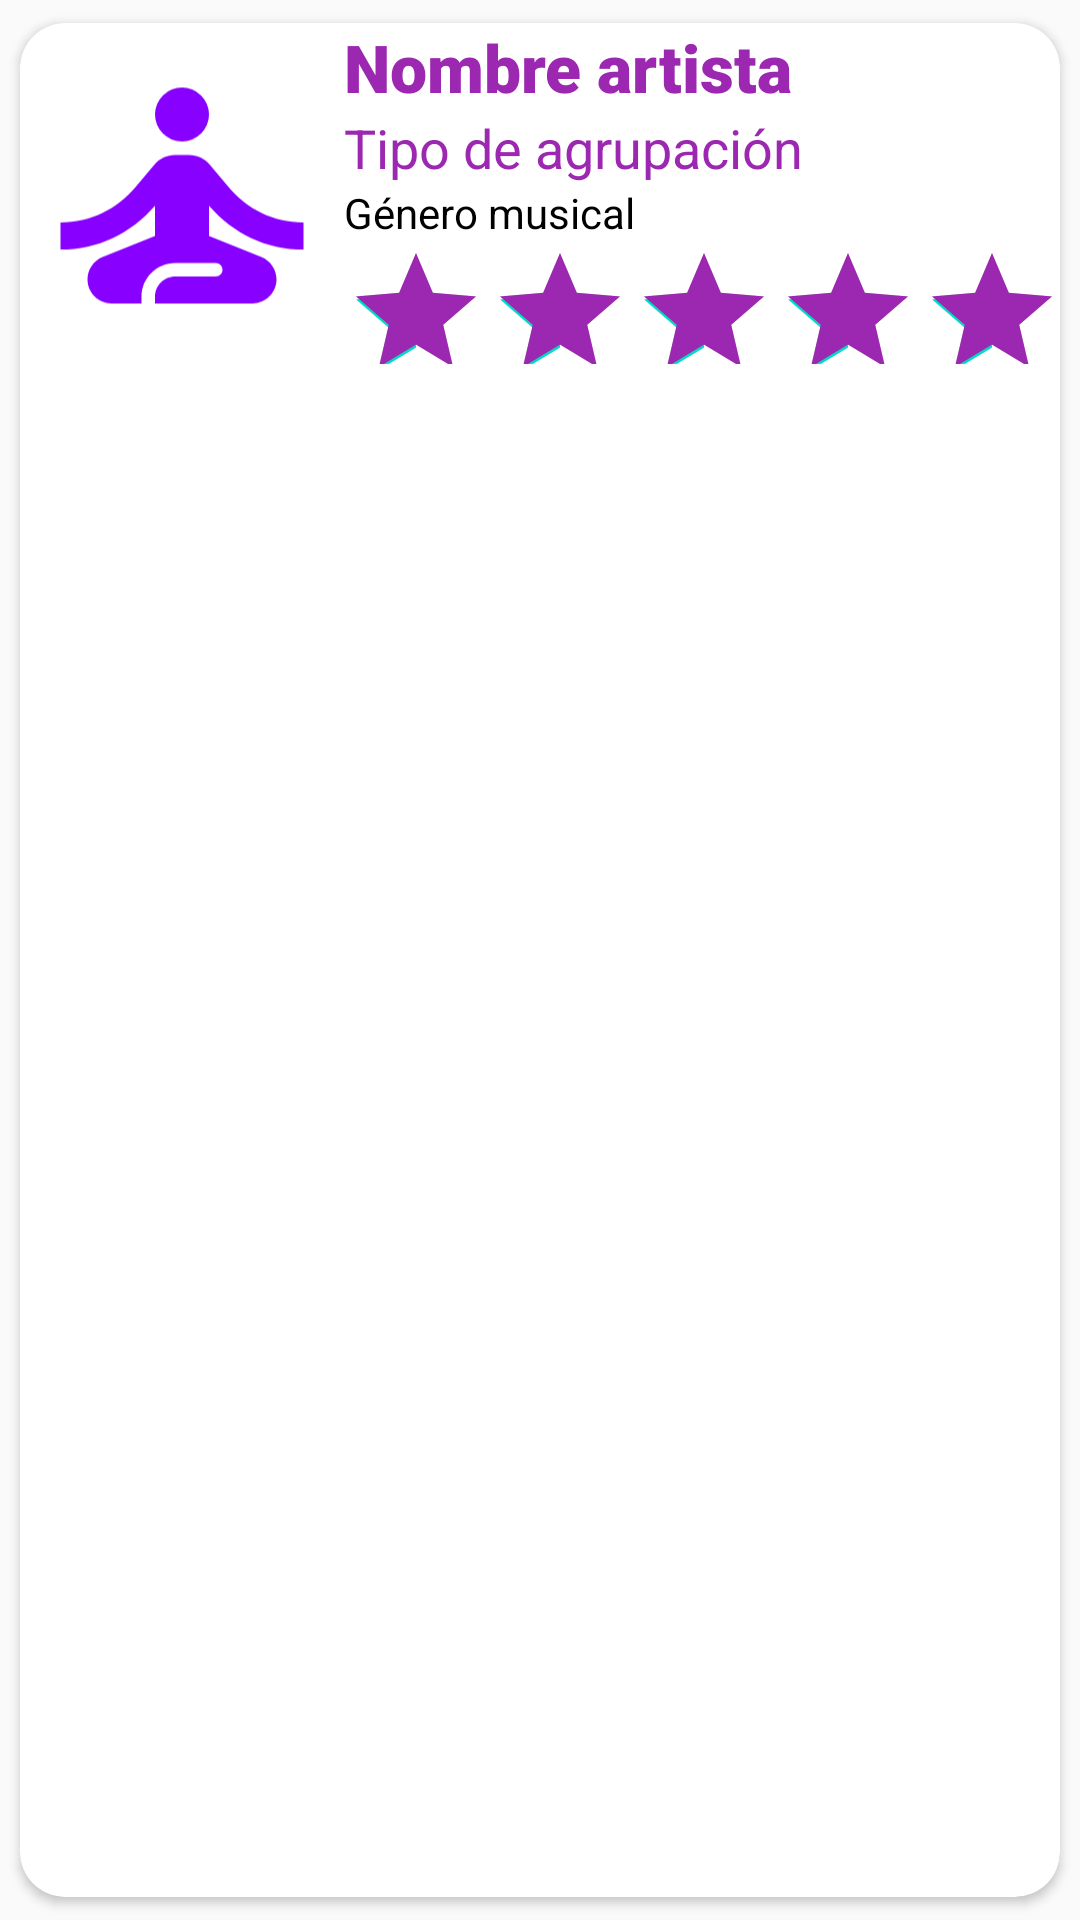

Icons on this 1080w x 1920h Android screen, each with its box as (x1, y1, x2, y2):
self improvement: (34, 30, 304, 304)
